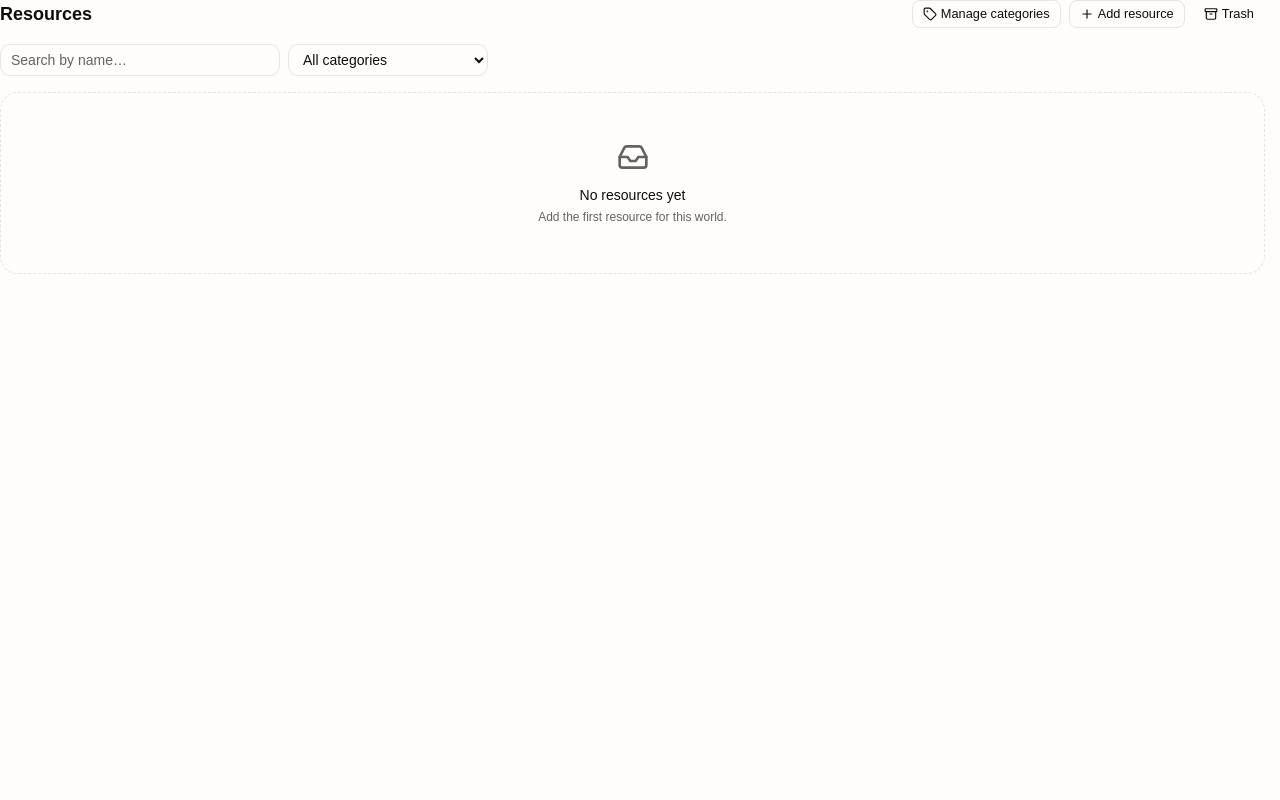
it: ResourcesConfigPanel › hides the manage categories dialog's own title so the panel heading isn't duplicated
The image size is (1280, 800).
Check: the text "No resources yet" is shown, box [580,187,685,203]
Click the button "Manage categories" at [986, 14], box [912,0,1061,28]
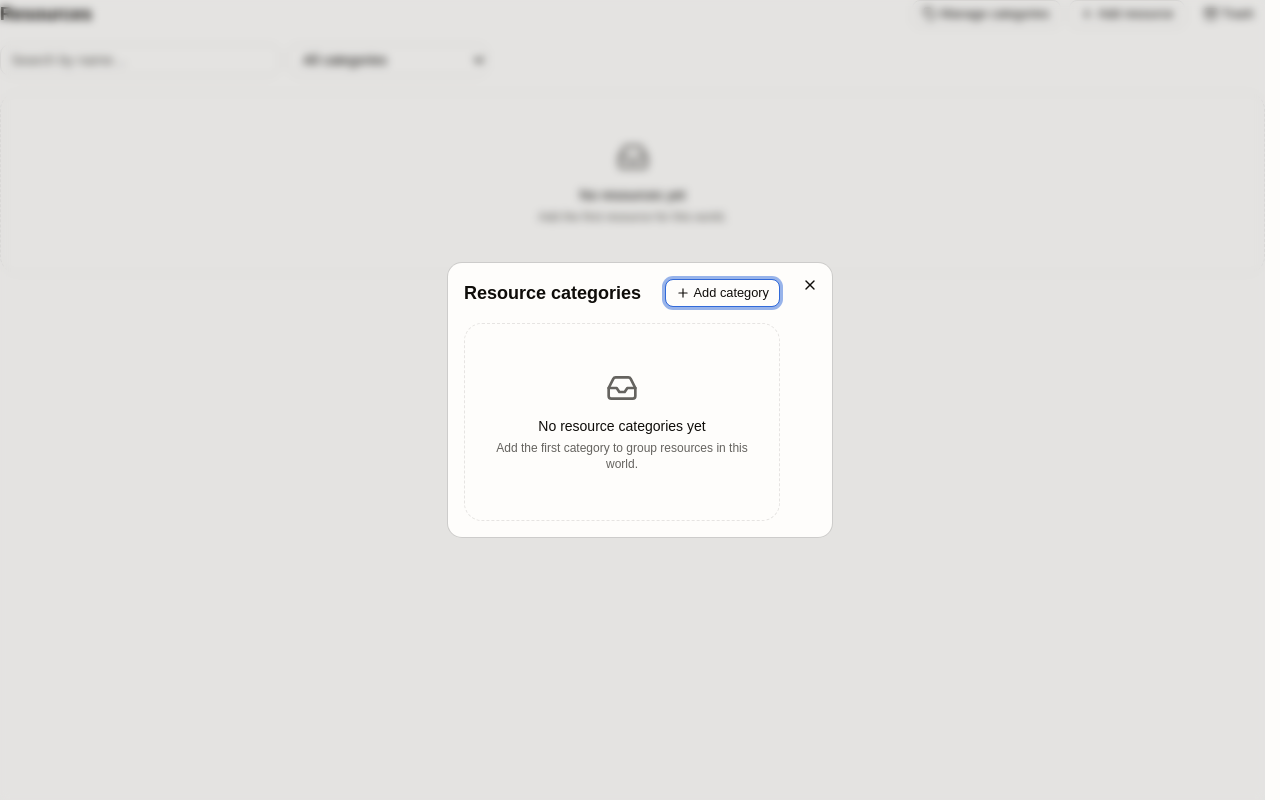
Check: the heading "Resource categories" is shown, box [464,279,641,307]
